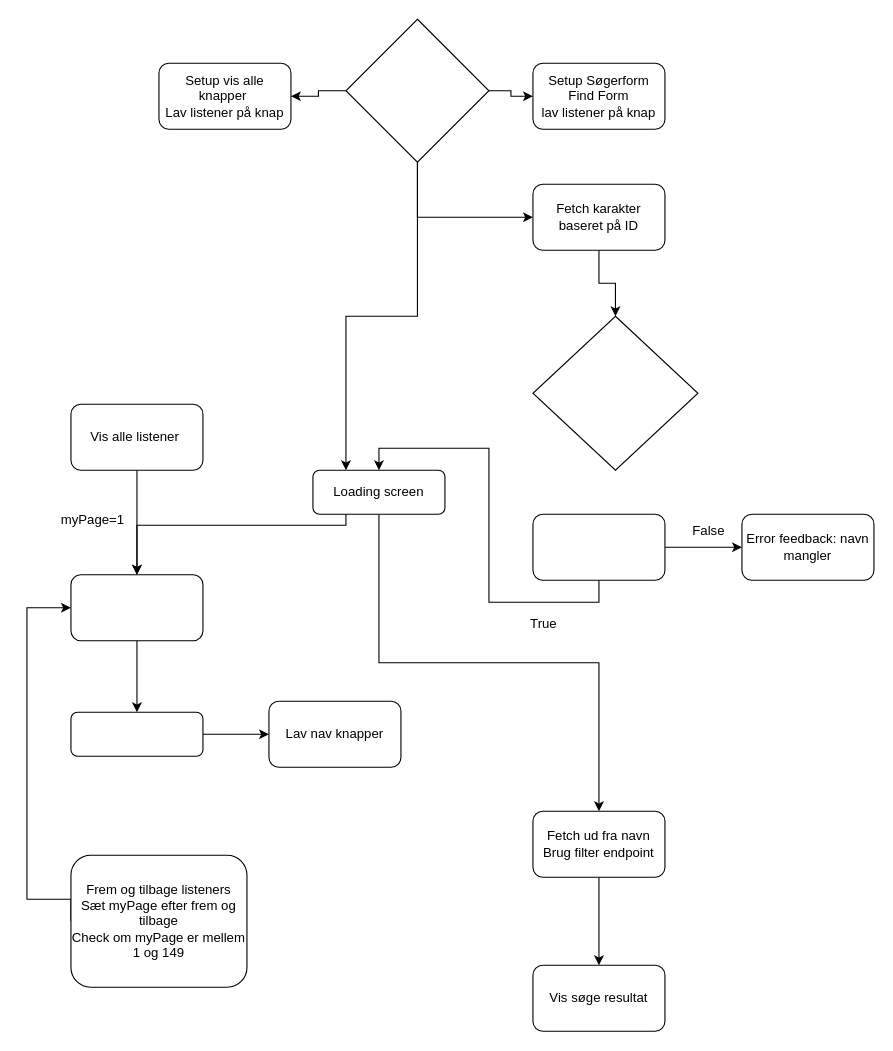
Image size: 893x1051. Some labels were removed from this diagram. Each missing label, with the centre of its shape:
"Fetch data baseret på side tal" belongs at point (136, 607).
"On load" belongs at point (417, 90).
"Søg listener Valider at der er et søge navn" belongs at point (598, 546).
"Vis karakter baseret på dataobject" belongs at point (615, 392).
"Vis side ud fra data." belongs at point (136, 733).
